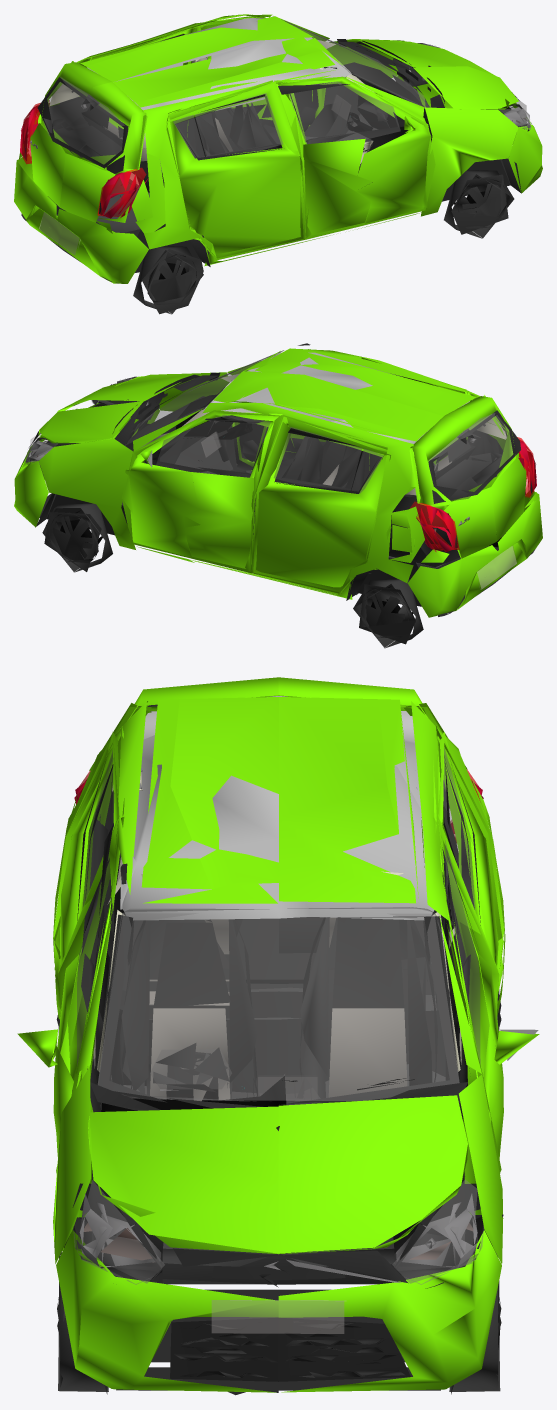
Rendered from alto800.glb.
3 renders of one model, top to bottom at view 1: azimuth 30°, elevation 25°; view 2: azimuth 150°, elevation 25°; view 3: azimuth 270°, elevation 25°, orthographic. The views are drawn at different scales.
Parts seen in each view (by area): view 1: car_paint, car_detail, car_glass; view 2: car_paint, car_detail, car_glass; view 3: car_paint, car_detail, car_glass.
Part boxes in pixels (box(x1,y1,x2,y2)): car_paint: box(14, 14, 542, 283); car_detail: box(20, 18, 530, 314); car_glass: box(21, 16, 531, 254); car_paint: box(14, 348, 542, 617); car_detail: box(23, 343, 536, 648); car_glass: box(25, 350, 535, 589); car_paint: box(17, 677, 539, 1392); car_detail: box(56, 704, 538, 1395); car_glass: box(73, 696, 483, 1333).
Size of the model in its own units: 3.43 by 1.45 by 1.71.
